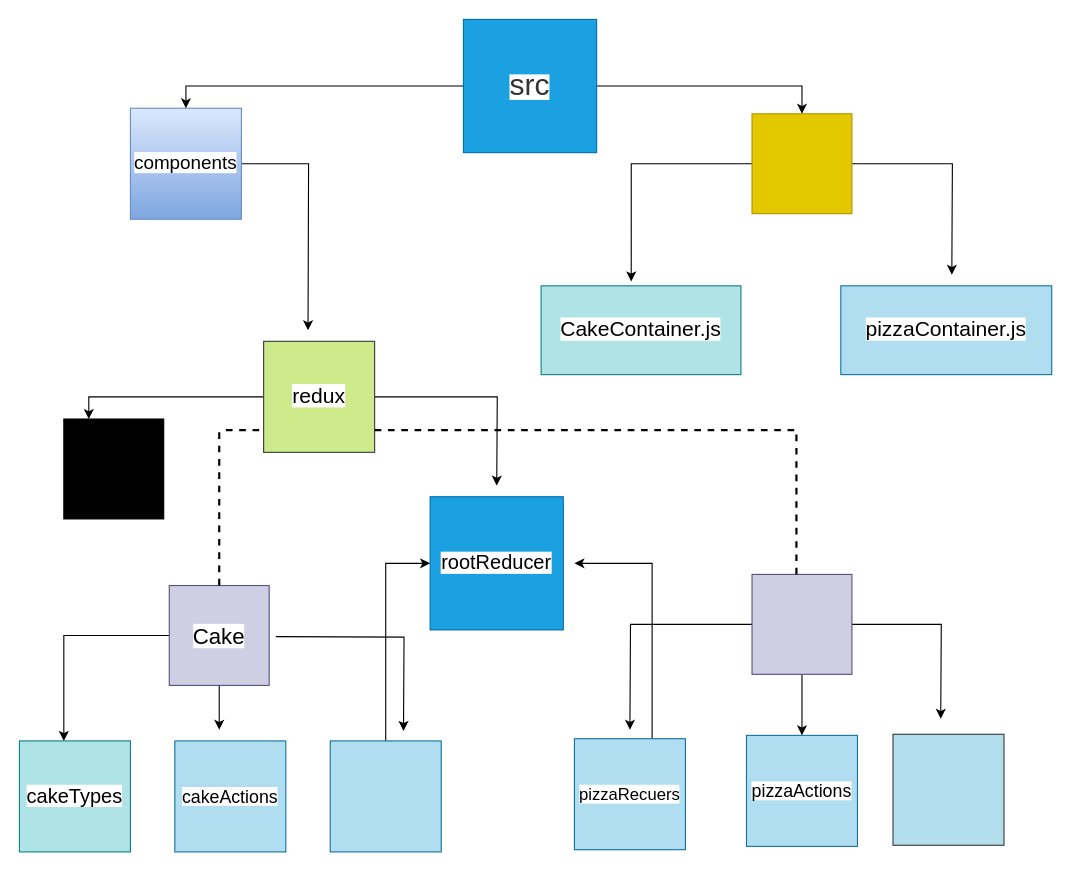
Image size: 1071x871. Some labels were removed from this diagram. The shapes that lost their labels are listed below. From the top down, each one's box as (x1, y1, x2, y2) in pixels, then its label:
(751, 113, 852, 214): app.js
(63, 418, 164, 519): Store
(751, 573, 852, 674): pizza
(329, 740, 441, 852): CakeRecuers
(892, 733, 1004, 845): pizzaTypes
